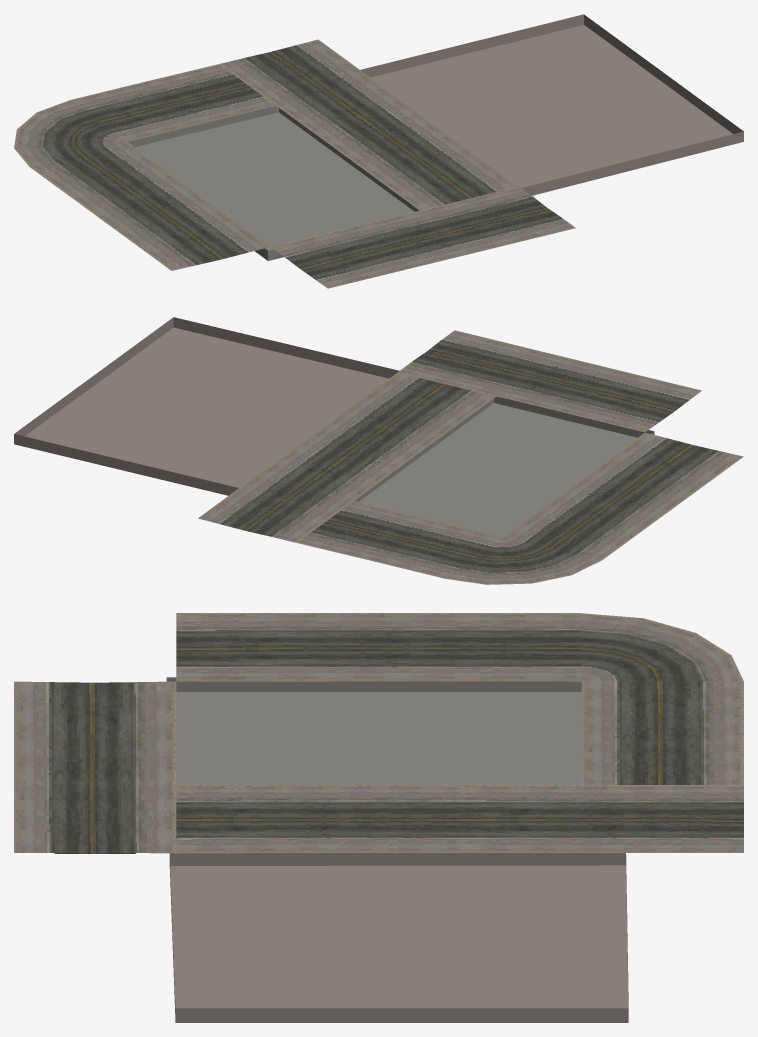
Rendered from lodcunte_roads65.obj.
The picture shows the model from 3 angles, top to bottom: view 1: azimuth 30°, elevation 25°; view 2: azimuth 150°, elevation 25°; view 3: azimuth 270°, elevation 25°; orthographic projection. The views are drawn at different scales.
Parts seen in each view (by area): view 1: LODcunte_roads65; view 2: LODcunte_roads65; view 3: LODcunte_roads65.
Boxes of the visible parts, box(x1,y1,x2,y2) form: LODcunte_roads65: box(14, 14, 743, 288); LODcunte_roads65: box(14, 317, 743, 584); LODcunte_roads65: box(14, 613, 743, 1022).
Bounding box in the file's own units: 115 × 2.09 × 90.
2 materials, 2 textured.
